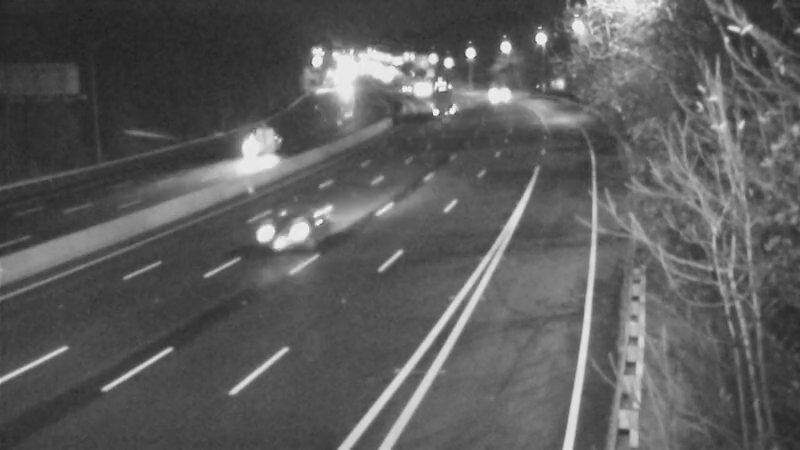vehicle: (244, 200, 324, 280), (209, 110, 289, 190), (472, 69, 522, 119), (416, 69, 466, 119)
